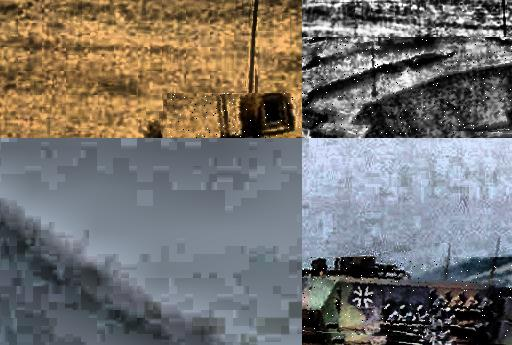tanks: (303, 38, 512, 136), (303, 259, 512, 339), (223, 94, 303, 139)
